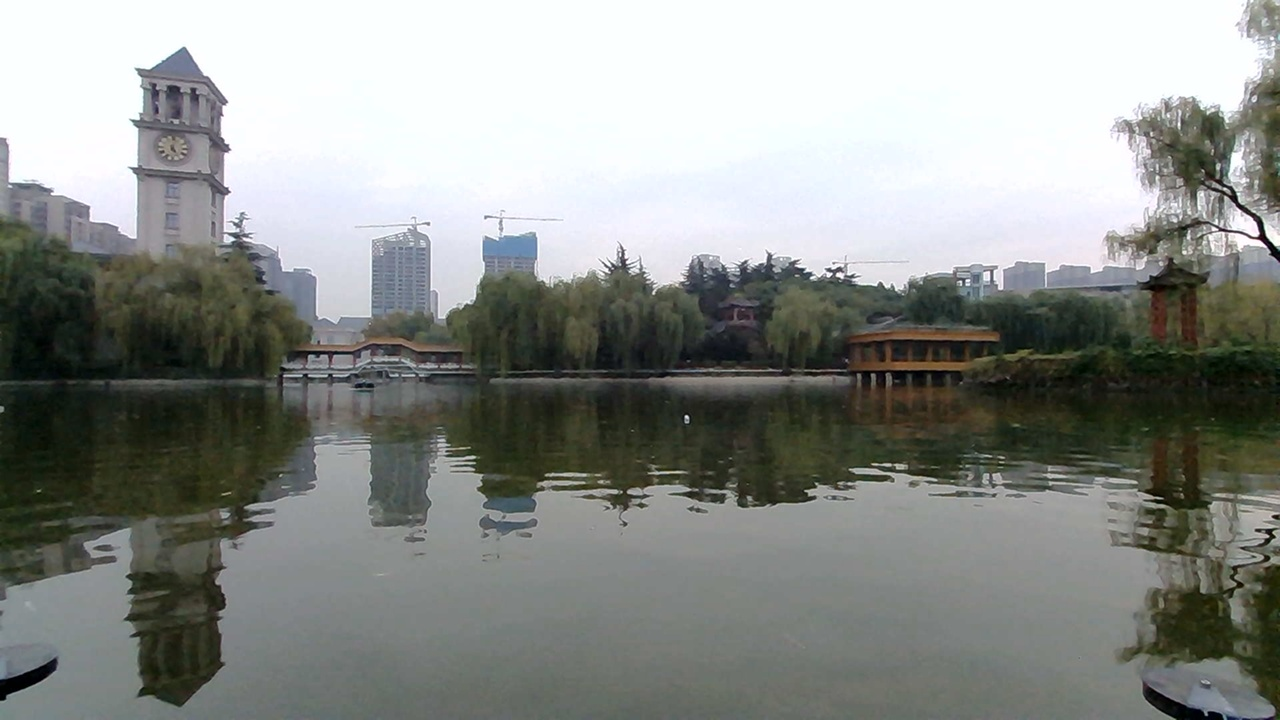bottle: (666, 405, 700, 430)
